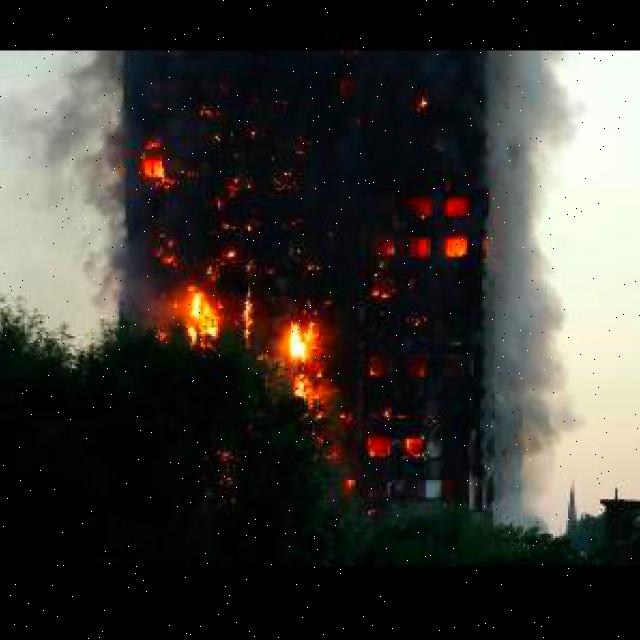fire: (282, 306, 330, 409), (180, 270, 227, 344)
smoke: (461, 51, 585, 473), (10, 48, 136, 255), (92, 257, 180, 338)
